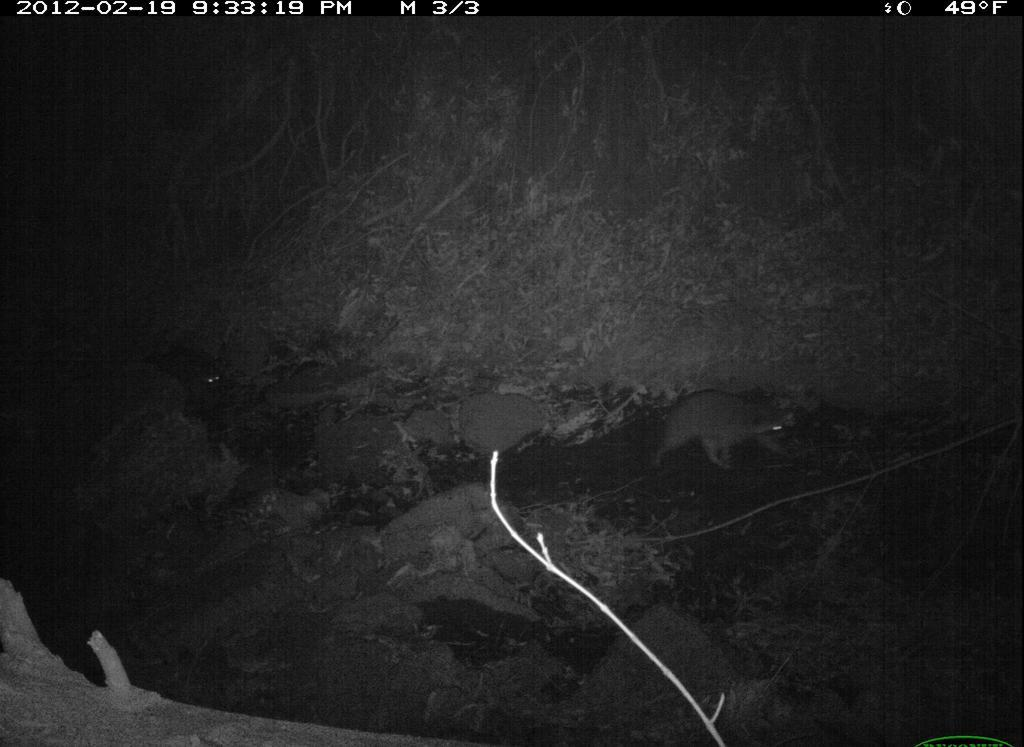raccoon: (651, 373, 816, 481)
